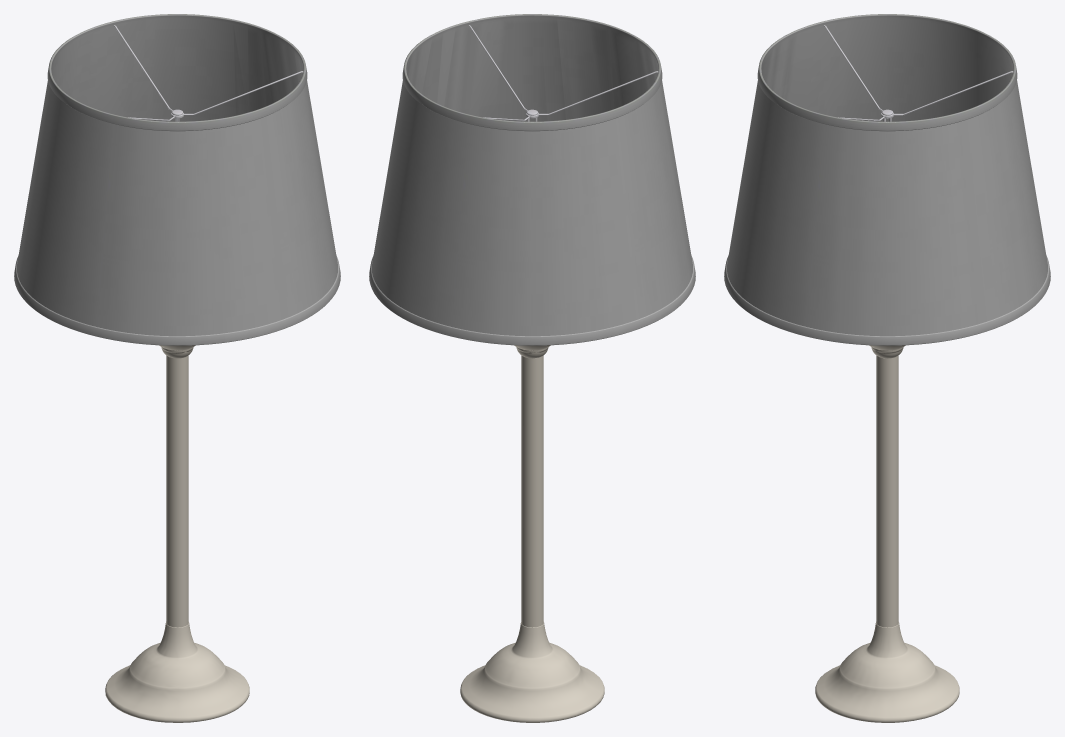
The model's file is B07DBCMTCS.glb.
3 views of the same model, side by side, from view 1: azimuth 30°, elevation 25°; view 2: azimuth 150°, elevation 25°; view 3: azimuth 270°, elevation 25° (orthographic).
Parts seen in each view (by area): view 1: RootNode; view 2: RootNode; view 3: RootNode.
Part boxes in pixels (x1,y1,x2,y2): RootNode: [14, 14, 340, 722]; RootNode: [369, 14, 695, 722]; RootNode: [724, 14, 1050, 722].
Size of the model in its own units: 0.3309 by 0.6985 by 0.3309.
Materials: 1 (1 with a texture image).
